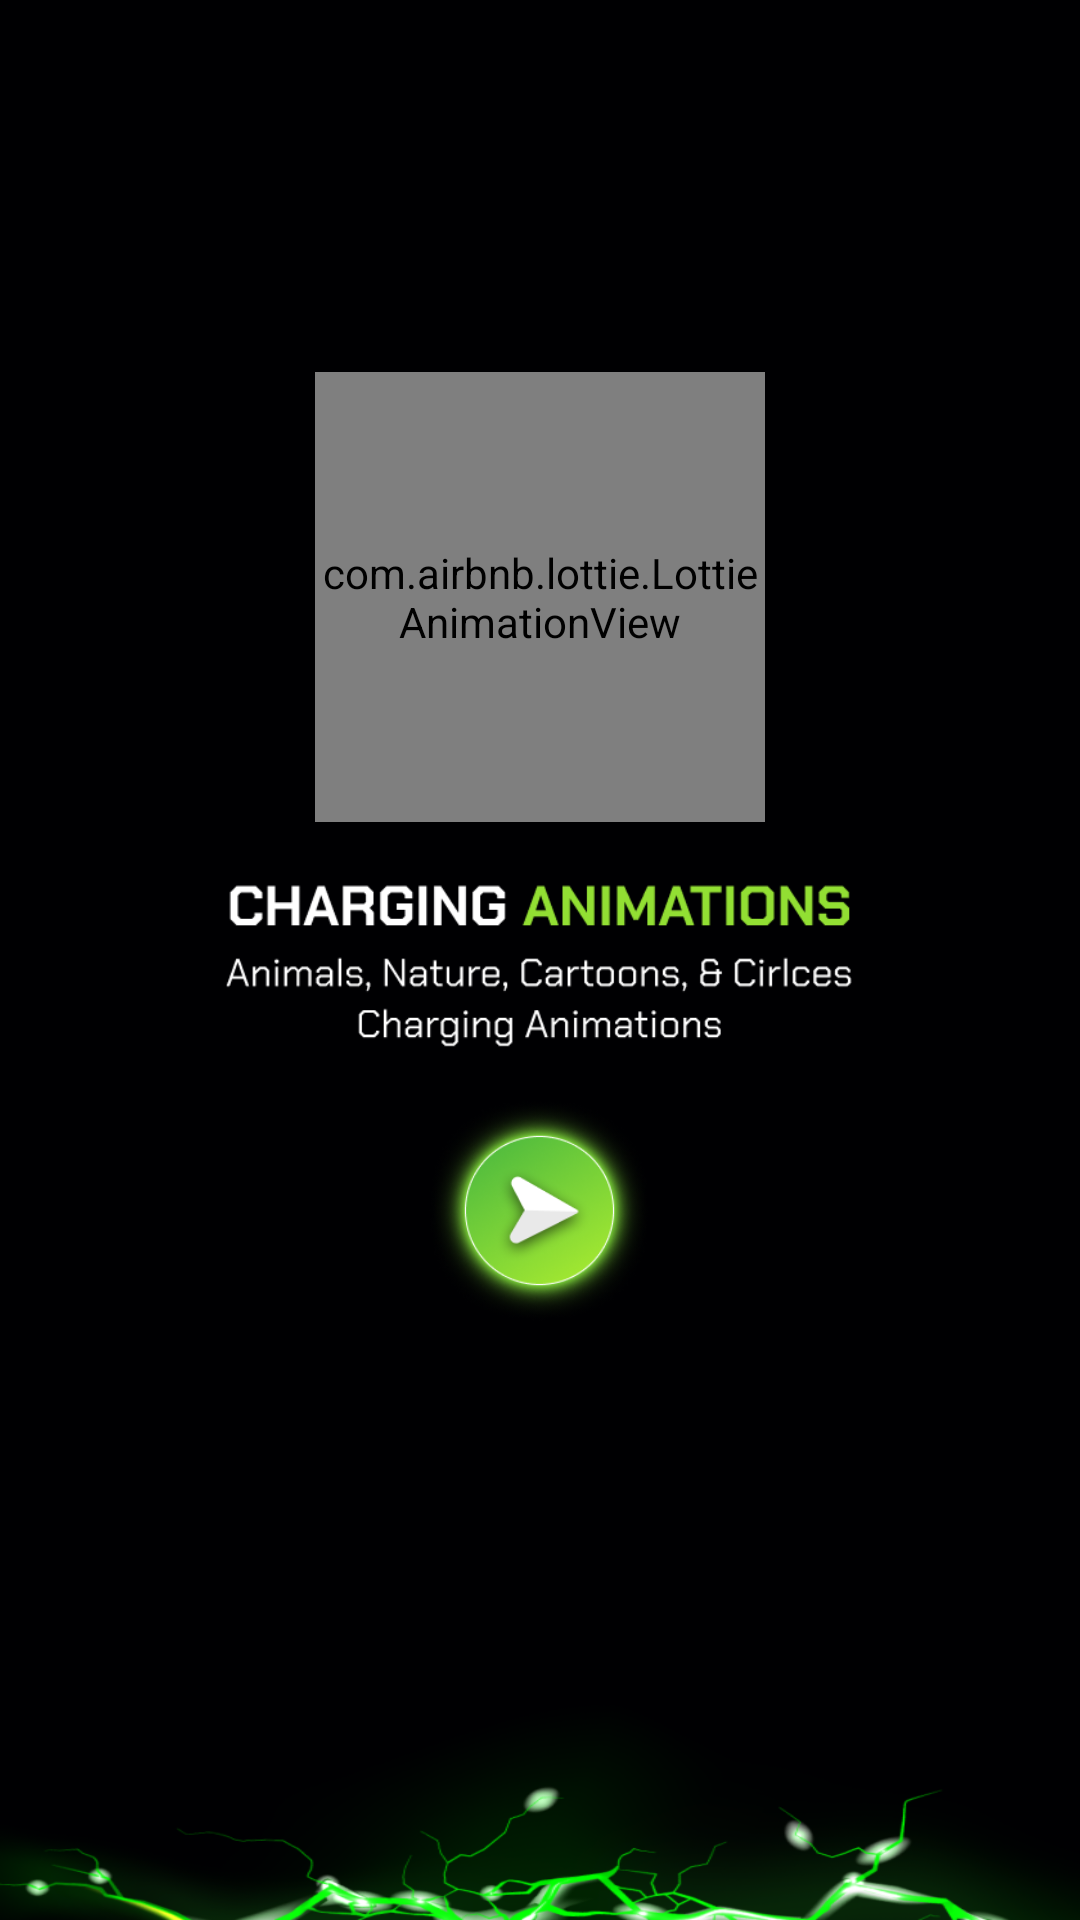

Named icons in this screenshot (1080 x 1920) and their centers, (x,y):
start: (539,1210)
